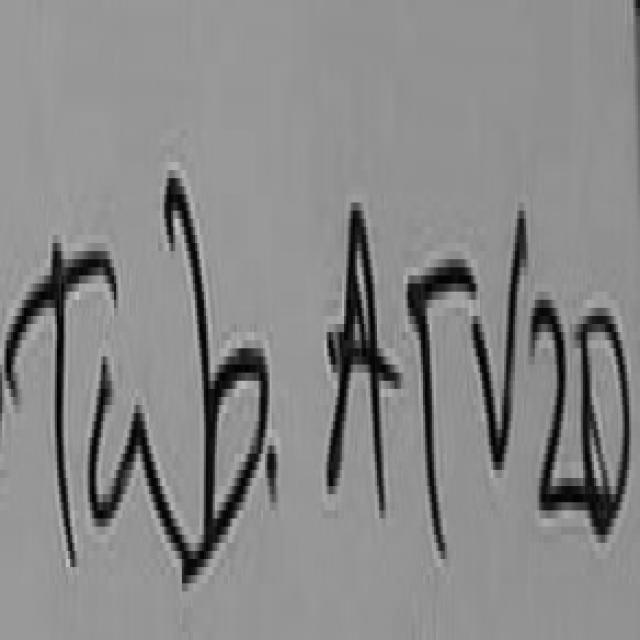0: (582, 316, 631, 531)
2: (536, 300, 586, 506)
A: (329, 203, 401, 506)
T: (4, 243, 115, 563), (408, 259, 478, 555)
V: (473, 211, 528, 466)
a: (88, 356, 178, 539)
b: (167, 178, 270, 579)
